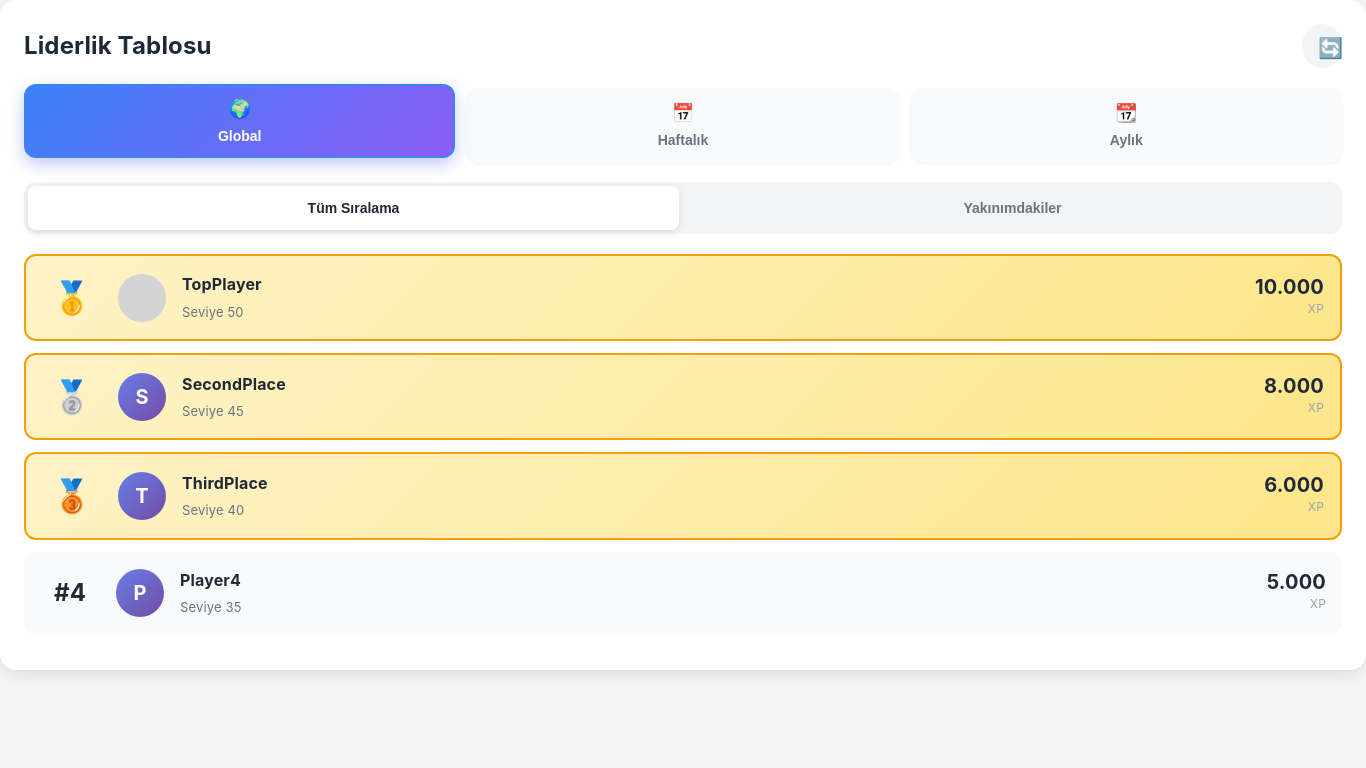
Test: Leaderboard - Nearby Users › displays nearby sections
Click the button "Yakınımdakiler": (1012, 208) 687,186 -> 1338,230
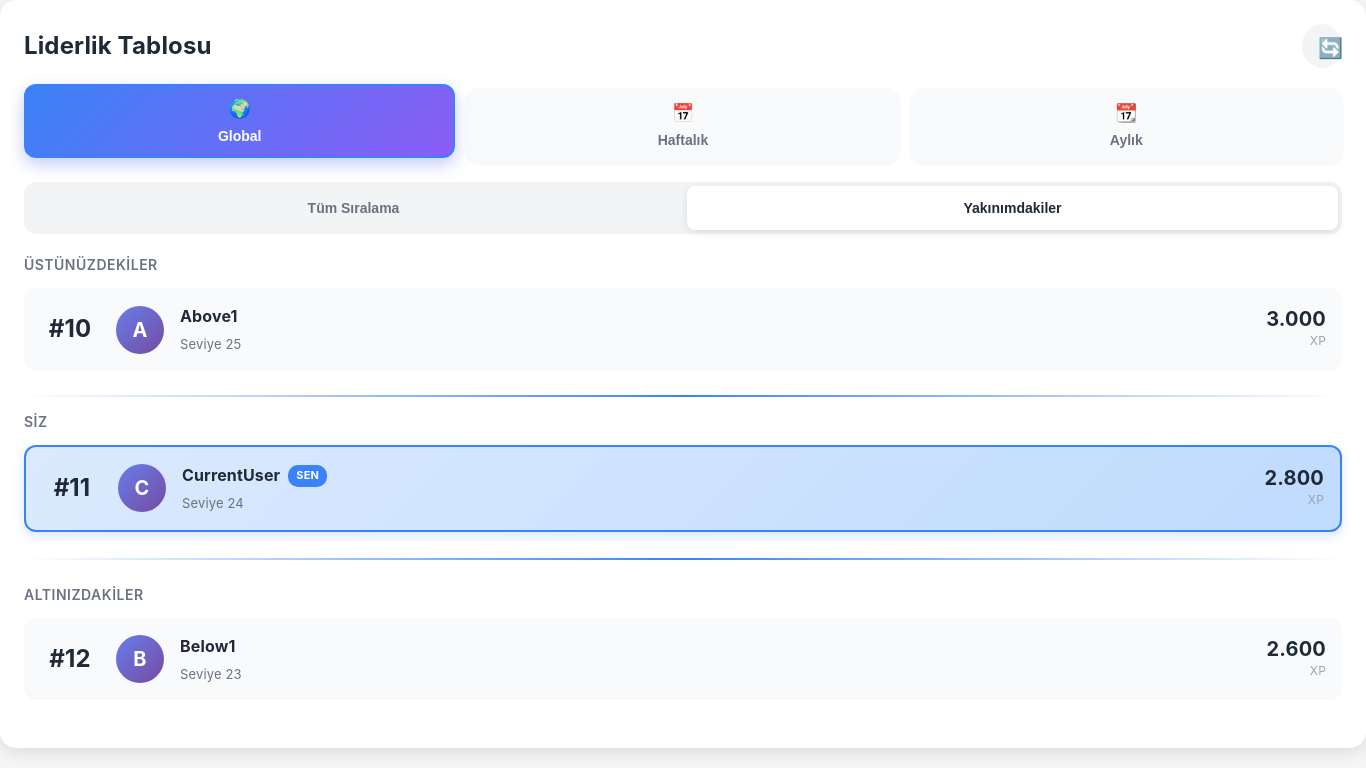
Expected: the text "Üstünüzdekiler" is shown, 24,256 -> 158,273
Expected: the text "Siz" is shown, 24,413 -> 48,430
Expected: the text "Altınızdakiler" is shown, 24,586 -> 144,603
